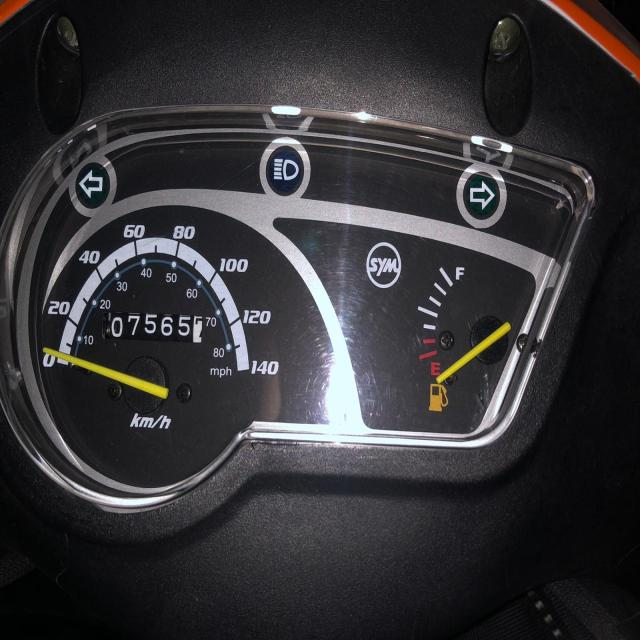odometer: (105, 308, 206, 349)
